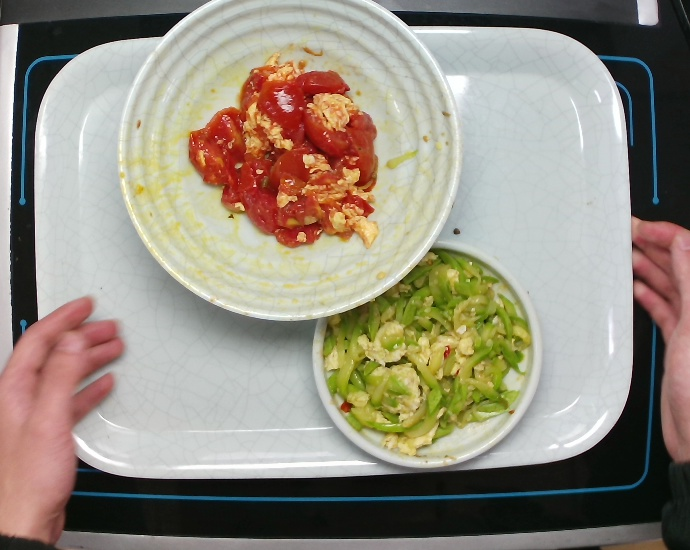JYsf-Da_Tang_Wan: (112, 1, 469, 329)
JYsf-Xiao_Yuan_Pan: (303, 236, 548, 478)
